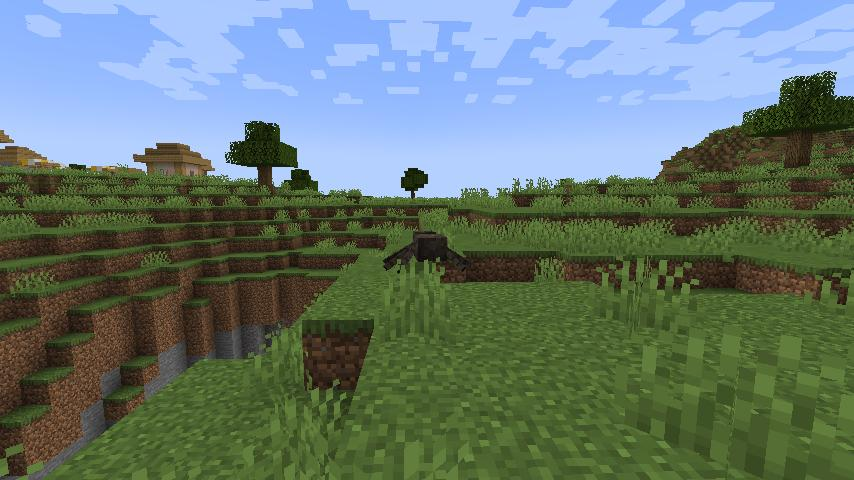spider: (381, 229, 474, 273)
